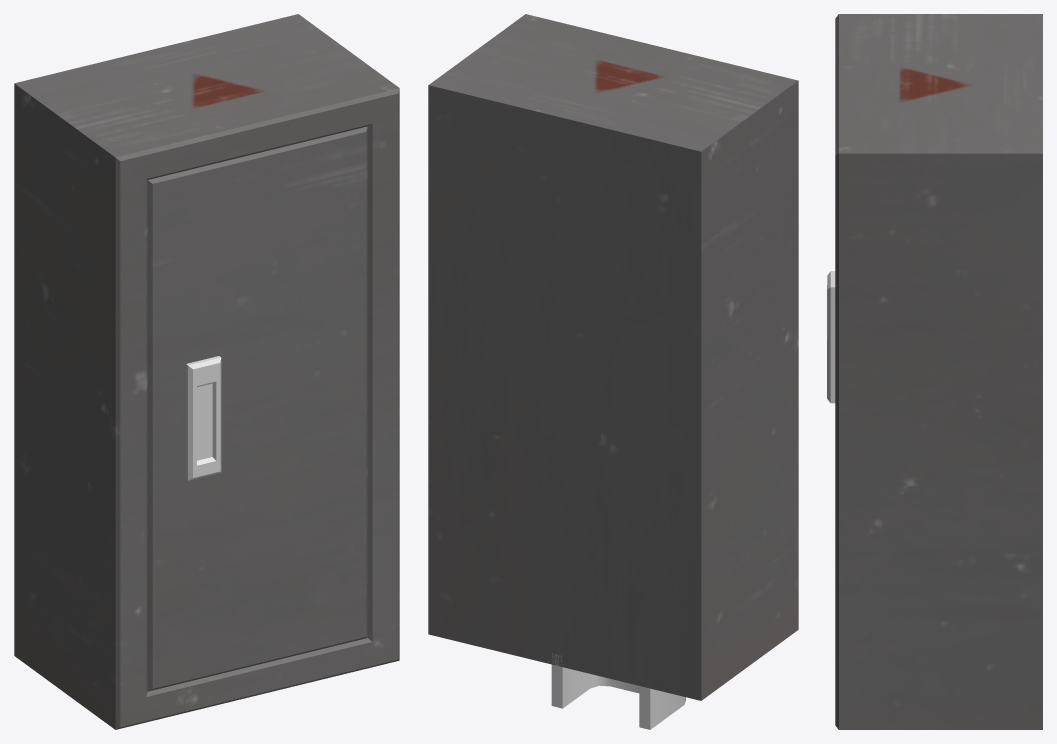
The model's file is KB3D_CBP_FuseBox_G.fbx.
3 views of the same model, side by side, from view 1: azimuth 30°, elevation 25°; view 2: azimuth 150°, elevation 25°; view 3: azimuth 270°, elevation 25° (orthographic). The views are drawn at different scales.
Parts seen in each view (by area): view 1: KB3D_CBP_FuseBox_G_Main; view 2: KB3D_CBP_FuseBox_G_Main; view 3: KB3D_CBP_FuseBox_G_Main.
Boxes of the visible parts, <box> form: KB3D_CBP_FuseBox_G_Main: <box>14,14,399,729</box>; KB3D_CBP_FuseBox_G_Main: <box>428,14,798,729</box>; KB3D_CBP_FuseBox_G_Main: <box>827,14,1042,729</box>.
Bounding box in the file's own units: 30.49 × 63.08 × 19.9.
